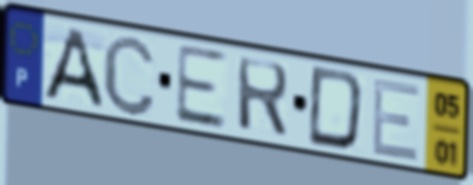A: (39, 24, 107, 111)
C: (100, 31, 158, 119)
D: (304, 63, 367, 154)
E: (172, 40, 228, 132), (369, 75, 423, 165)
R: (234, 53, 292, 141)
